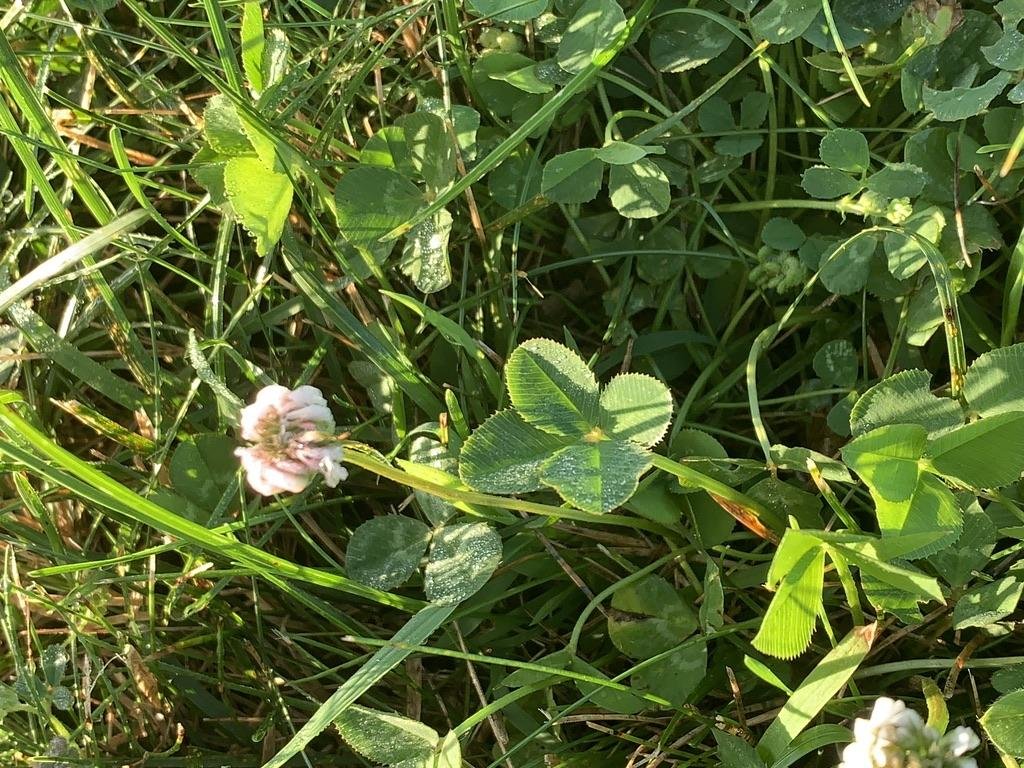4-Leaf-Clovers: (456, 264, 687, 423)
